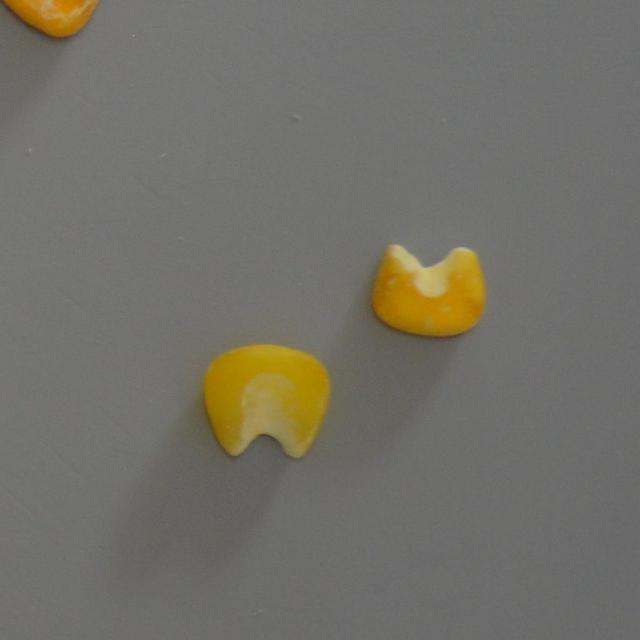no_canjicado: (203, 342, 328, 462), (370, 241, 486, 338)
pelicula: (0, 0, 112, 40)
